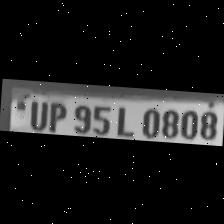0: (137, 104, 162, 138), (177, 106, 200, 138)
5: (89, 102, 112, 134)
8: (196, 108, 219, 140), (158, 106, 180, 138)
9: (67, 100, 92, 134)
L: (112, 102, 136, 138)
P: (44, 100, 68, 132)
U: (25, 98, 48, 131)
